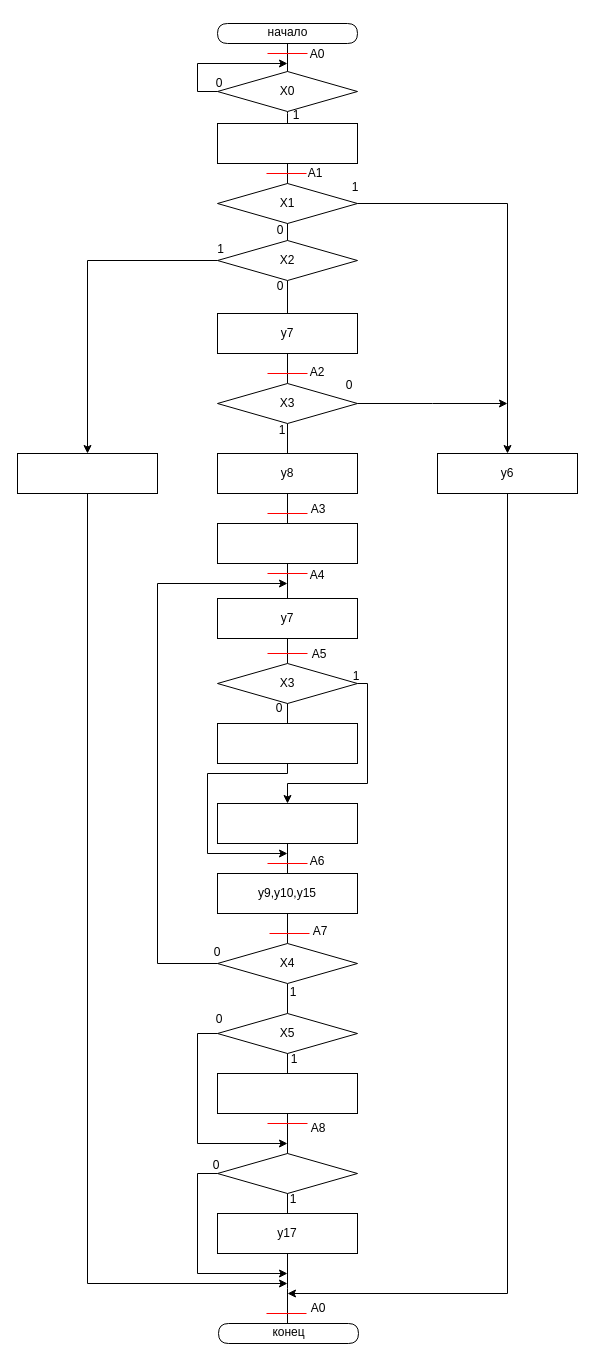
Image size: 595x1364. Some labels were removed from this diagram. The centre of each missing label's shape, as x and y in pixels:
"X6" belongs at [287,1173].
"y0,y1,y2,y3,y4" belongs at [287,143].
"y12" belongs at [287,743].
"y13,y14" belongs at [287,823].
"y16" belongs at [287,1093].
"y5" belongs at [87,473].
"y5,y9,y10,y11" belongs at [287,543].
